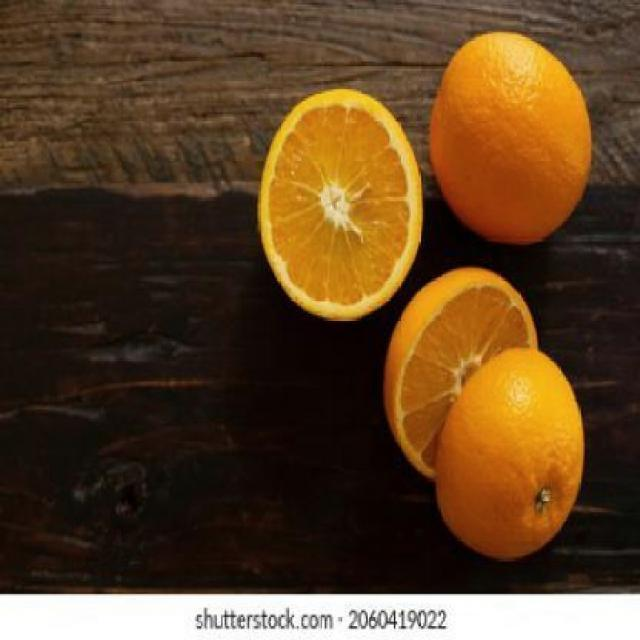Jeruk Sudah Matang: (428, 34, 589, 242)
